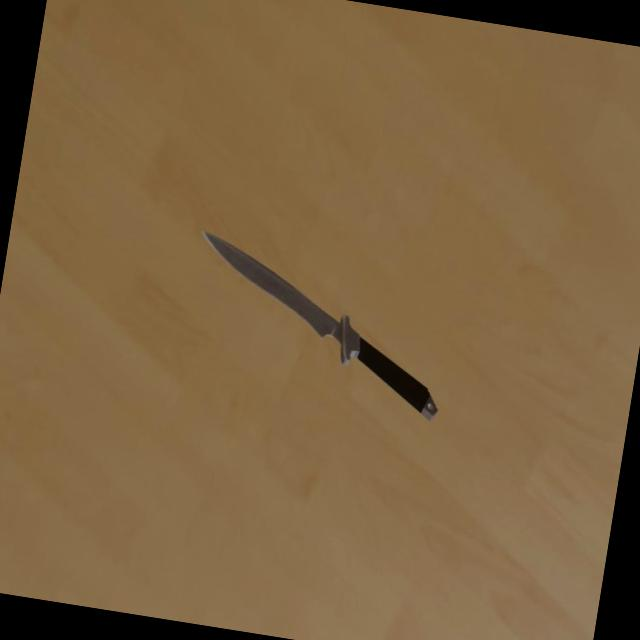knife: (348, 337, 446, 422)
